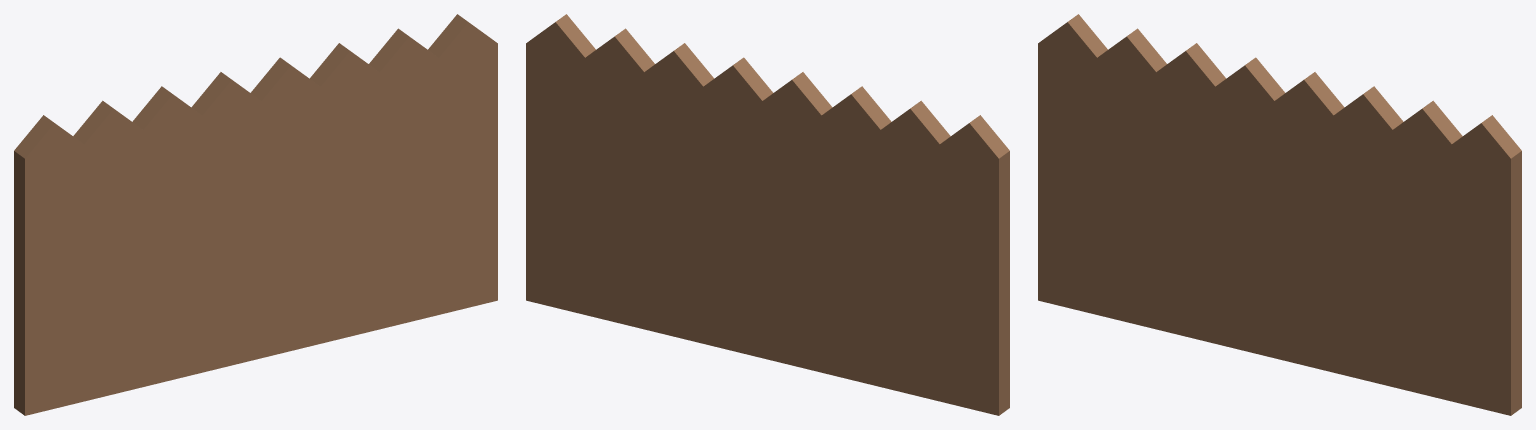
File: fence1.fbx
The picture shows the model from 3 angles, left to right: view 1: azimuth 30°, elevation 25°; view 2: azimuth 150°, elevation 25°; view 3: azimuth 330°, elevation 25°; orthographic projection.
Parts seen in each view (by area): view 1: Cylinder; view 2: Cylinder; view 3: Cylinder.
Part boxes in pixels (x1,y1,x2,y2): Cylinder: (14, 14, 497, 415); Cylinder: (526, 14, 1009, 415); Cylinder: (1038, 14, 1521, 415).
Size of the model in its own units: 1.73 by 1 by 0.07.
